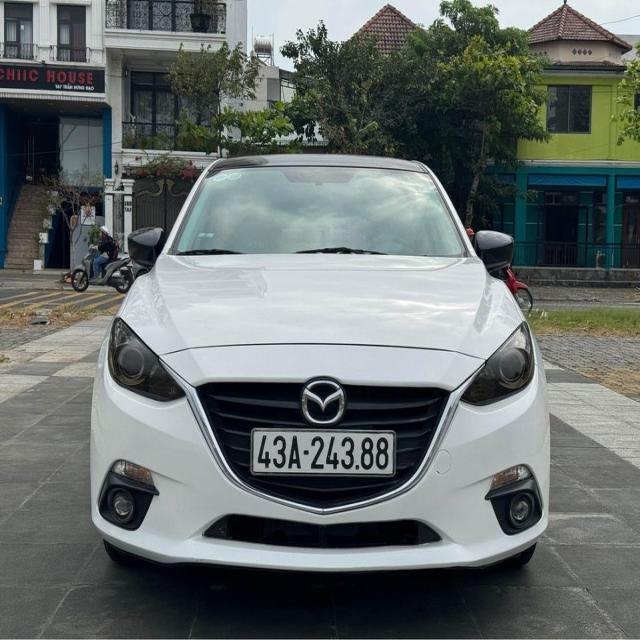car: (90, 148, 546, 595)
plate: (247, 426, 400, 481)
